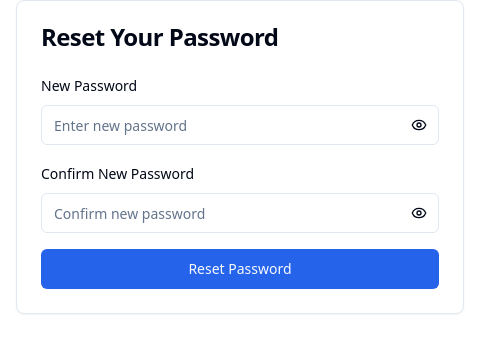
it: PasswordResetForm › shows success message when password is reset
The width and height of the screenshot is (481, 355).
Expected: the heading "Reset Your Password" is shown, [41,20,278,53]
Step 1. Type "newpassword123" into the password field labelled "New Password" → (240, 125), box [41,105,439,145]
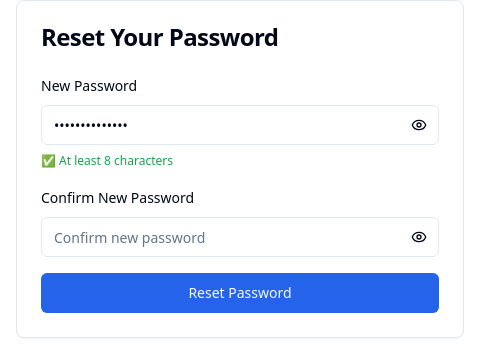
Step 2. Type "newpassword123" into the password field labelled "Confirm New Password" → (240, 237), box [41,217,439,257]
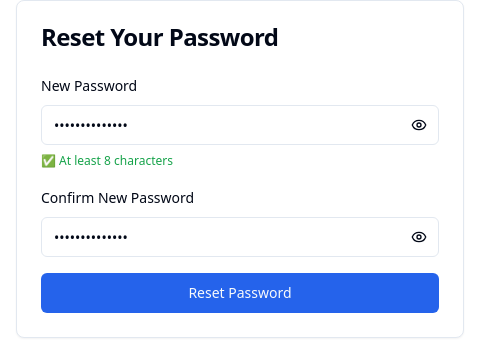
Step 3. Click the button "Reset Password" → (240, 293), box [41,273,439,313]
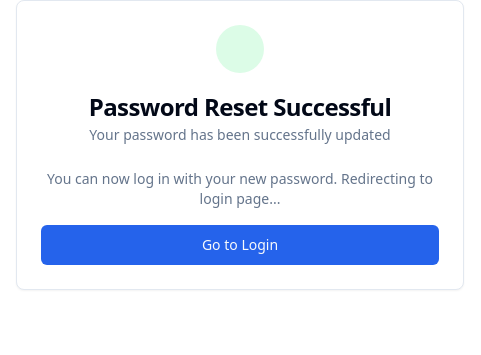
Expected: the heading "Password Reset Successful" is shown, [89,90,391,123]
Expected: the text "Your password has been successfully updated" is shown, [89,125,391,144]
